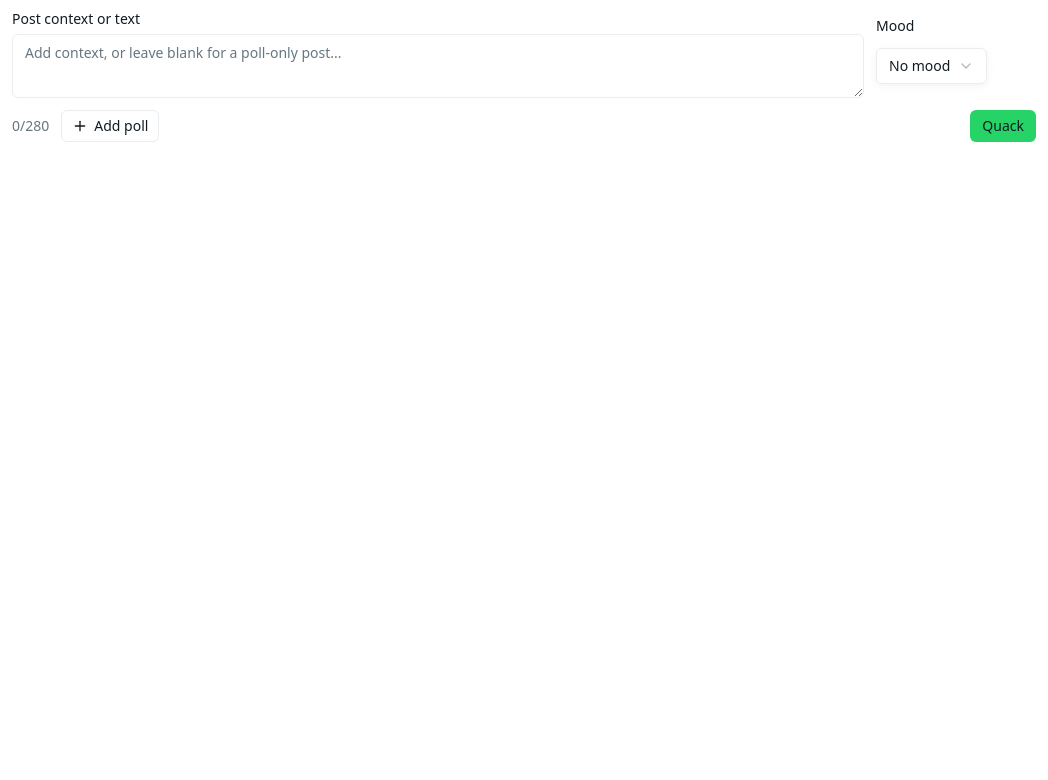
QuackForm › limits each poll to six answers
This screenshot has width=1048, height=780.
Click the button "Add poll" at (110, 126), box [61,110,159,142]
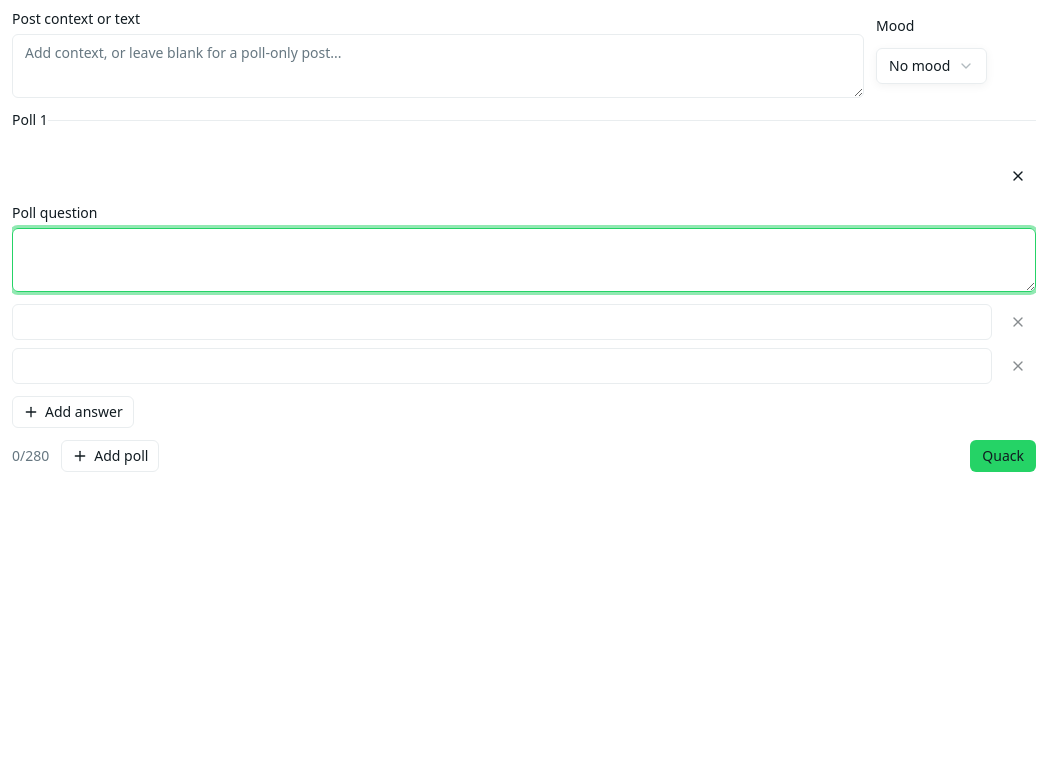
Click the button "Add answer" at (73, 412), box [12,396,134,428]
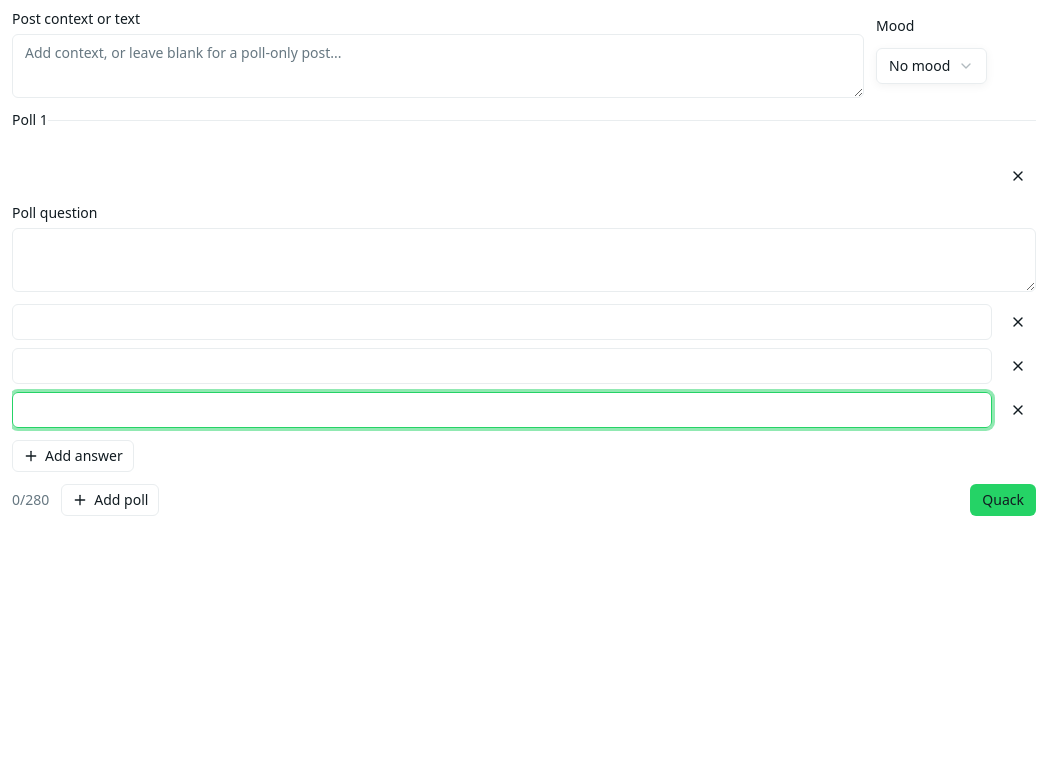
Click the button "Add answer" at (73, 456), box [12,440,134,472]
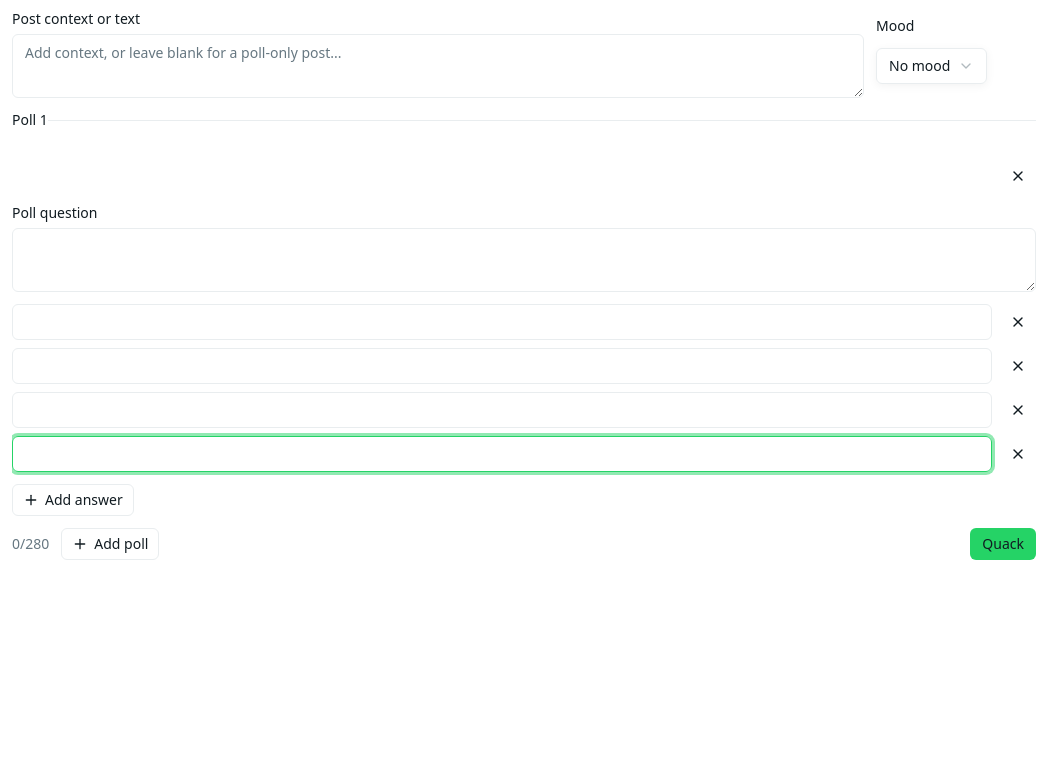
Click the button "Add answer" at (73, 500), box [12,484,134,516]
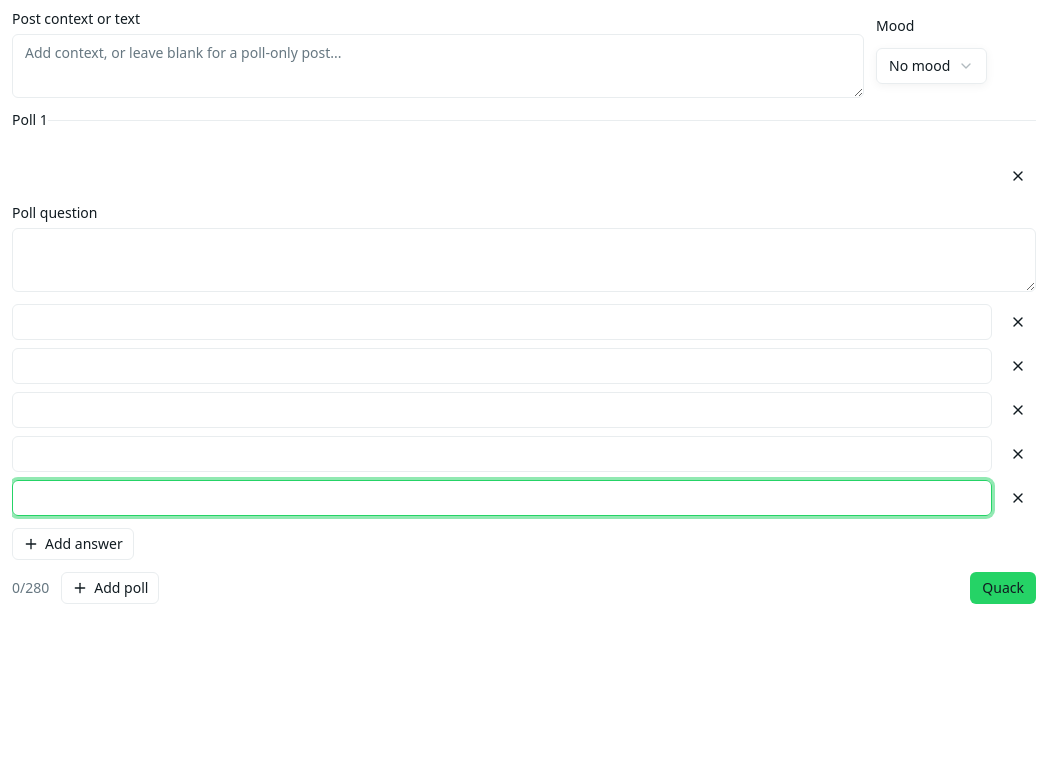
Click the button "Add answer" at (73, 544), box [12,528,134,560]
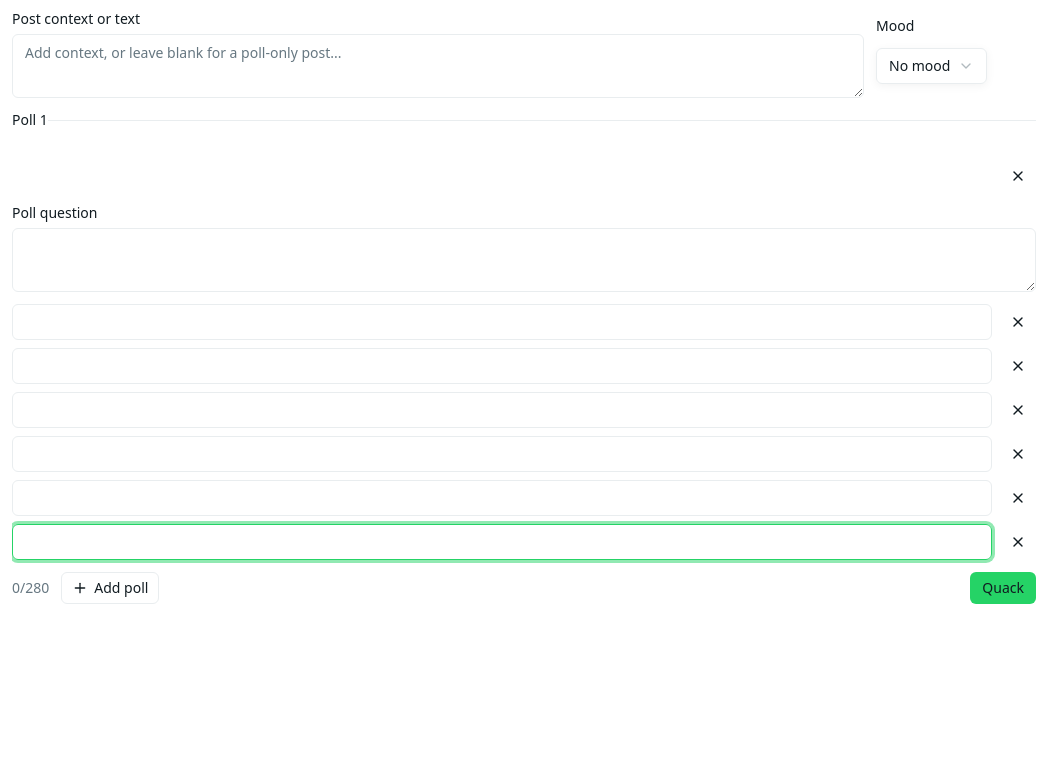
Expected: the button "Add answer" is gone
